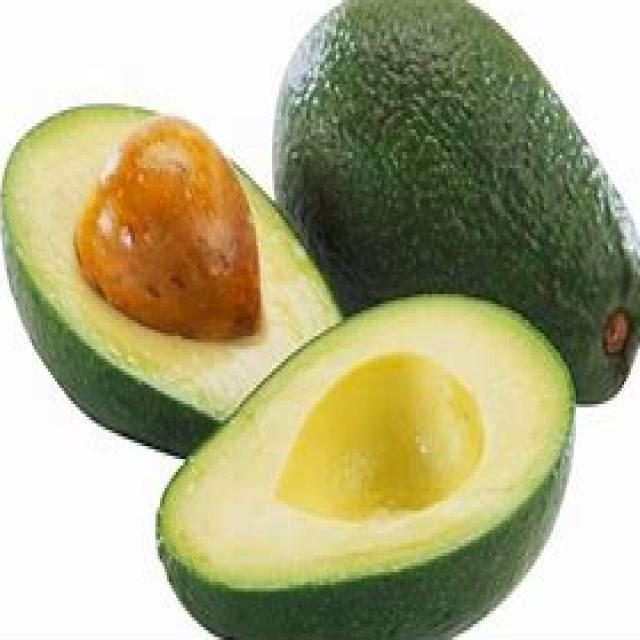avocado: (162, 286, 586, 637), (270, 4, 640, 406), (0, 92, 350, 457)
